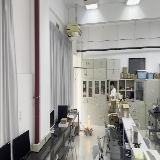fire: (85, 114, 91, 130)
